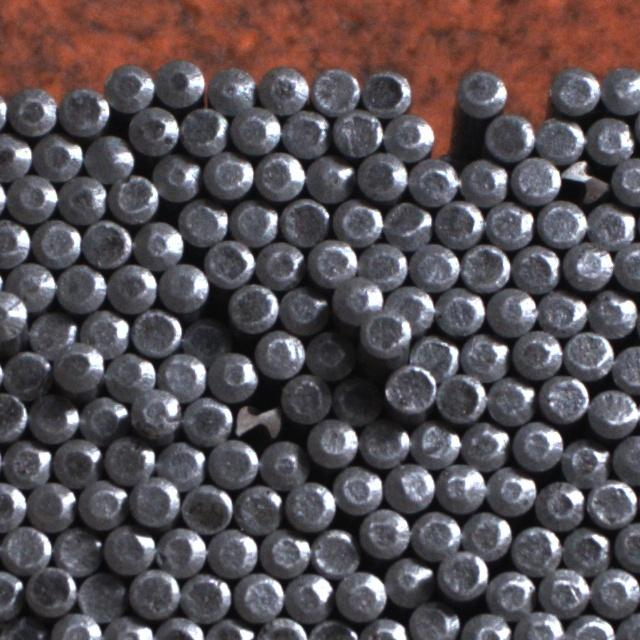tool: (383, 361, 438, 418), (358, 304, 414, 359), (104, 60, 156, 113), (358, 65, 411, 117), (58, 84, 110, 136), (437, 547, 488, 600), (24, 565, 75, 618), (358, 417, 411, 468), (305, 415, 356, 468), (203, 235, 254, 288), (508, 524, 562, 574), (504, 68, 554, 122), (384, 111, 436, 162), (179, 480, 230, 532), (127, 104, 178, 156), (455, 65, 507, 116), (81, 217, 132, 268), (180, 570, 231, 621), (102, 525, 153, 576), (258, 63, 309, 114), (485, 285, 536, 336), (588, 385, 639, 436), (384, 461, 435, 512), (128, 567, 179, 618), (355, 150, 406, 201), (5, 172, 56, 223), (159, 260, 209, 312), (226, 280, 276, 332), (129, 476, 179, 528), (283, 479, 333, 531), (104, 350, 156, 400), (53, 345, 103, 397), (332, 374, 382, 426), (234, 571, 284, 622), (539, 371, 589, 422), (179, 104, 229, 155), (207, 437, 257, 488), (206, 526, 256, 577), (538, 565, 588, 616), (7, 85, 57, 136), (156, 58, 206, 109), (57, 173, 107, 224), (76, 478, 126, 529), (587, 288, 638, 338), (331, 108, 382, 158), (156, 526, 206, 577), (280, 372, 330, 423), (3, 348, 53, 399), (332, 274, 383, 324), (435, 372, 484, 424), (562, 240, 612, 290), (510, 420, 560, 470), (483, 110, 533, 160), (106, 262, 156, 312), (410, 508, 460, 558), (283, 570, 333, 620), (460, 240, 510, 290), (254, 150, 304, 200), (408, 156, 458, 206), (461, 508, 511, 558), (0, 523, 50, 573), (510, 328, 560, 378), (590, 566, 640, 616), (485, 375, 535, 425), (180, 394, 230, 444), (409, 240, 459, 290), (52, 436, 102, 486), (586, 477, 636, 527), (306, 237, 356, 287), (206, 350, 256, 400), (130, 387, 180, 437), (384, 284, 434, 334), (130, 306, 181, 355), (562, 329, 613, 378), (486, 567, 535, 618), (305, 328, 354, 379), (432, 197, 481, 248), (102, 435, 151, 486), (511, 242, 560, 292), (278, 197, 328, 246), (53, 524, 102, 574), (233, 484, 282, 534), (203, 150, 253, 199), (510, 154, 559, 204), (77, 570, 126, 620), (32, 132, 82, 181), (536, 287, 586, 336), (335, 570, 384, 620), (561, 523, 610, 573), (152, 152, 202, 201), (134, 218, 184, 267), (27, 478, 76, 528), (28, 393, 78, 442), (535, 478, 584, 528), (486, 466, 535, 516), (80, 307, 129, 357), (84, 133, 134, 182), (181, 310, 231, 359), (311, 64, 359, 115), (208, 62, 256, 113), (238, 397, 290, 444), (459, 332, 508, 381), (7, 260, 56, 309), (436, 462, 485, 511), (411, 419, 460, 468), (382, 197, 431, 246), (281, 109, 330, 158), (255, 329, 304, 378), (358, 507, 407, 556), (230, 107, 279, 156), (78, 391, 127, 440), (305, 152, 354, 201), (384, 555, 433, 604), (460, 418, 508, 468), (484, 199, 532, 249), (56, 262, 104, 312), (436, 286, 484, 336), (550, 66, 598, 116), (110, 172, 158, 222), (335, 465, 383, 515), (409, 333, 459, 381), (560, 157, 610, 205), (310, 526, 357, 577), (260, 528, 309, 576), (535, 115, 583, 164), (332, 197, 381, 245), (536, 198, 584, 247), (156, 438, 204, 487), (586, 116, 635, 164), (157, 350, 205, 399), (359, 239, 408, 287), (255, 238, 303, 287), (3, 438, 51, 487), (560, 436, 608, 485), (279, 284, 326, 334), (33, 218, 81, 266), (230, 197, 278, 245), (178, 198, 226, 246), (258, 441, 306, 489), (460, 156, 507, 204), (28, 310, 76, 357), (586, 202, 632, 250), (408, 601, 458, 640), (601, 64, 640, 113), (515, 609, 565, 640), (0, 131, 31, 181), (610, 433, 640, 483), (0, 296, 28, 349), (460, 611, 511, 640), (0, 217, 29, 267), (52, 611, 102, 640), (613, 238, 640, 290), (612, 520, 640, 570), (0, 389, 27, 440), (612, 156, 640, 204), (0, 479, 26, 530), (613, 342, 640, 391), (256, 615, 308, 640), (566, 613, 614, 640), (152, 615, 202, 640), (0, 614, 48, 640), (308, 616, 358, 640), (358, 616, 408, 640), (204, 616, 253, 640), (101, 616, 150, 640), (0, 566, 21, 616)
